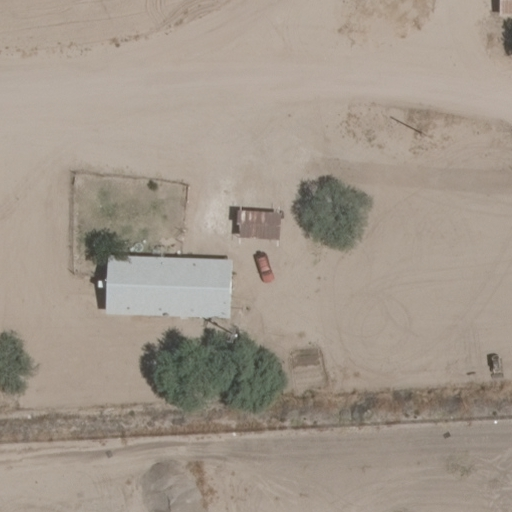DT: (218, 326, 247, 348), (412, 125, 430, 139)
